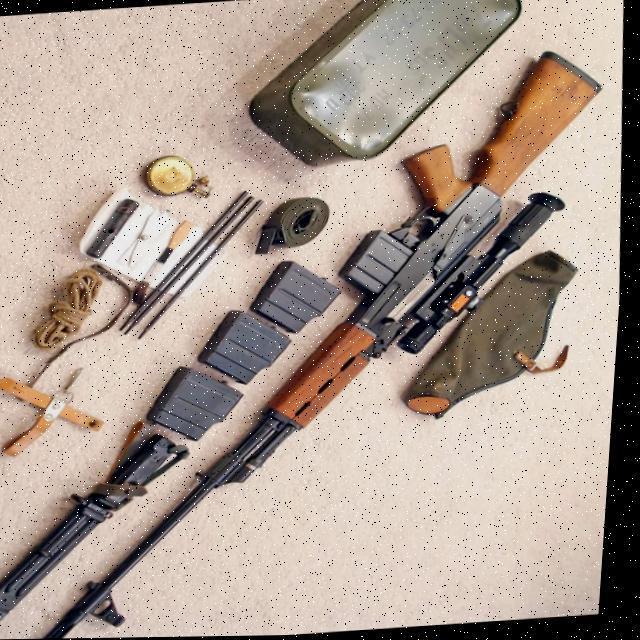firearm: (6, 49, 636, 640)
knife: (0, 436, 191, 634)
